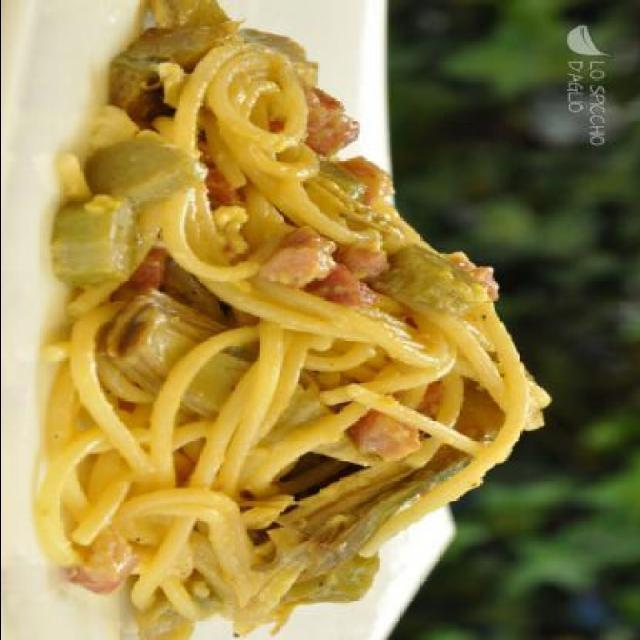Pasta with carbonara sauce: (42, 74, 533, 630)
